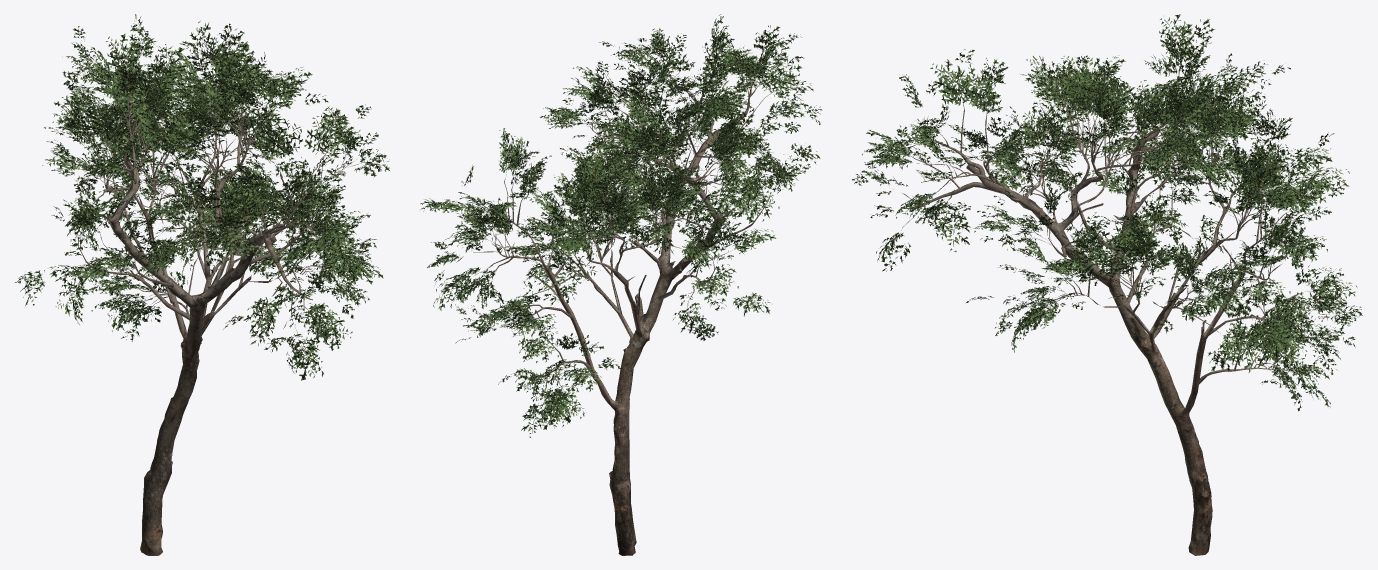
Rendered from tree_small_02.gltf.
3 views of the same model, side by side, from view 1: azimuth 30°, elevation 25°; view 2: azimuth 150°, elevation 25°; view 3: azimuth 270°, elevation 25° (orthographic). The views are drawn at different scales.
Parts seen in each view (by area): view 1: tree_small_02_LOD0; view 2: tree_small_02_LOD0; view 3: tree_small_02_LOD0.
Boxes of the visible parts, x1,y1,x2,y2 form: tree_small_02_LOD0: (15, 14, 389, 555); tree_small_02_LOD0: (420, 14, 822, 555); tree_small_02_LOD0: (852, 14, 1362, 555).
Bounding box in the file's own units: 2.91 × 4.55 × 4.24.
Materials: 3 (3 with a texture image).
